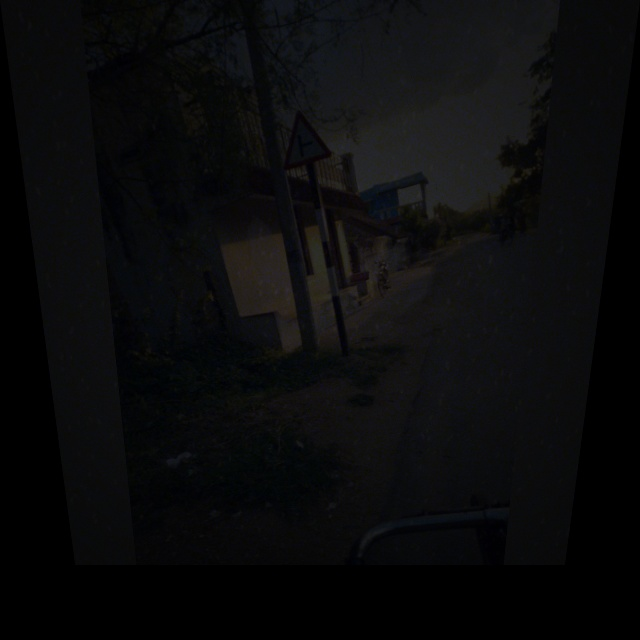Side_Road_Right: (276, 106, 337, 173)
